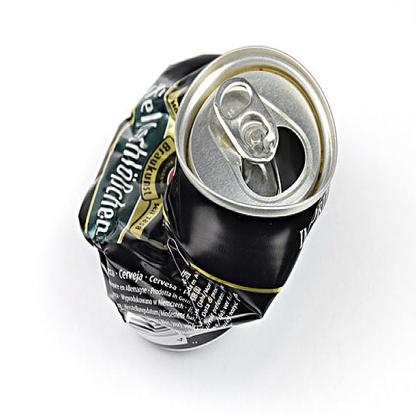can: (74, 46, 337, 352)
